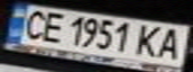1: (112, 20, 136, 55), (63, 14, 84, 47)
5: (97, 17, 118, 52)
9: (78, 16, 100, 50)
A: (154, 26, 190, 61)
C: (15, 7, 51, 40)
E: (36, 9, 69, 44)
K: (133, 22, 166, 58)
